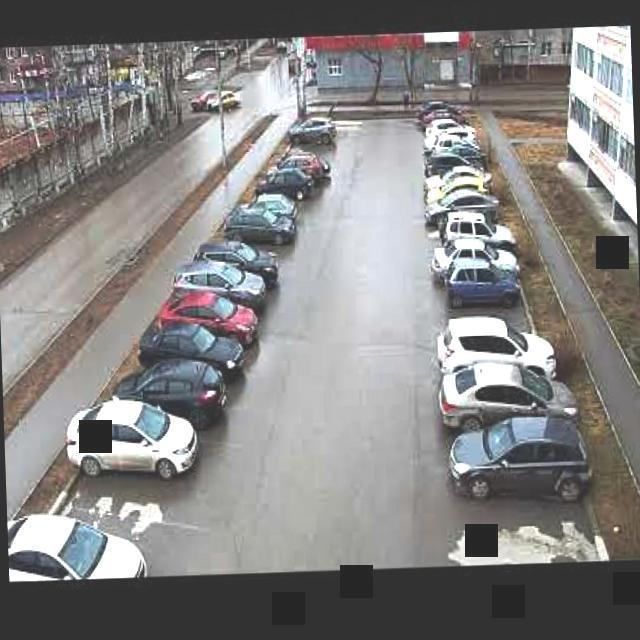space-empty: (49, 493, 192, 565), (424, 298, 530, 334), (200, 227, 301, 264), (275, 134, 337, 159)
space-occupied: (440, 432, 594, 510), (109, 361, 240, 447), (71, 416, 203, 493), (431, 333, 564, 389), (436, 384, 573, 438), (176, 264, 283, 325), (133, 329, 256, 381), (159, 294, 266, 353), (178, 240, 295, 292), (422, 208, 517, 255), (417, 191, 503, 229), (426, 243, 518, 278), (414, 147, 495, 185), (439, 266, 525, 301), (414, 141, 487, 181), (413, 132, 485, 166), (219, 215, 306, 242), (234, 192, 315, 220), (411, 124, 483, 154), (261, 156, 335, 181), (255, 169, 321, 194), (416, 116, 477, 141), (286, 118, 344, 142), (414, 104, 466, 129), (412, 95, 468, 113)
